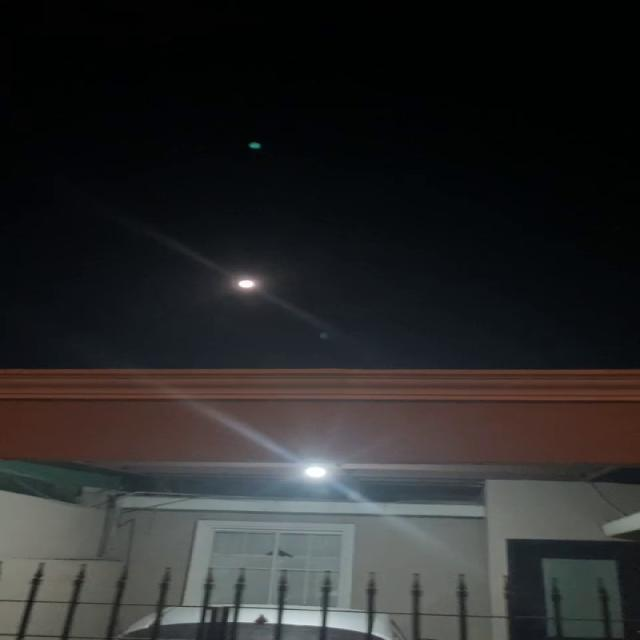moon: (227, 269, 263, 301)
